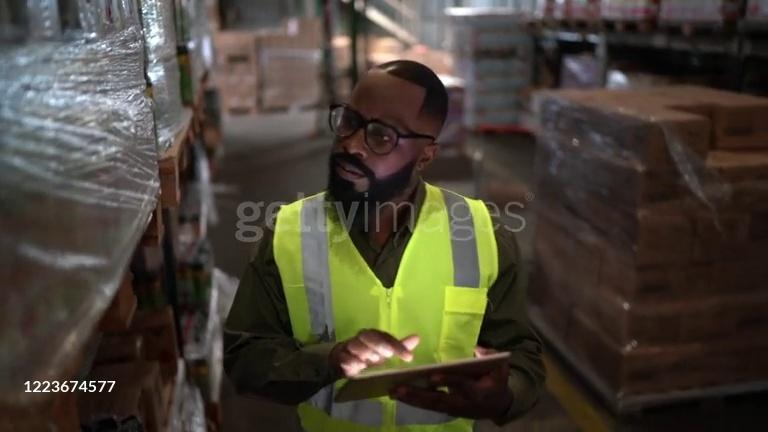person: (224, 53, 548, 432)
